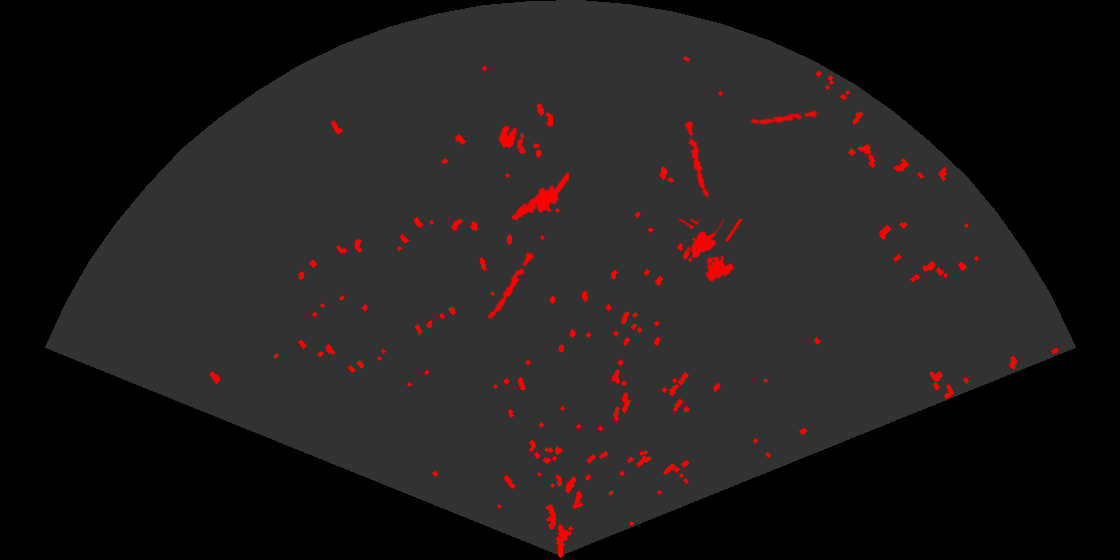ball: (497, 123, 526, 151)
cage: (676, 219, 744, 283)
chain: (486, 247, 538, 320), (683, 119, 710, 199), (749, 109, 819, 126)
frogman: (510, 173, 569, 222)
